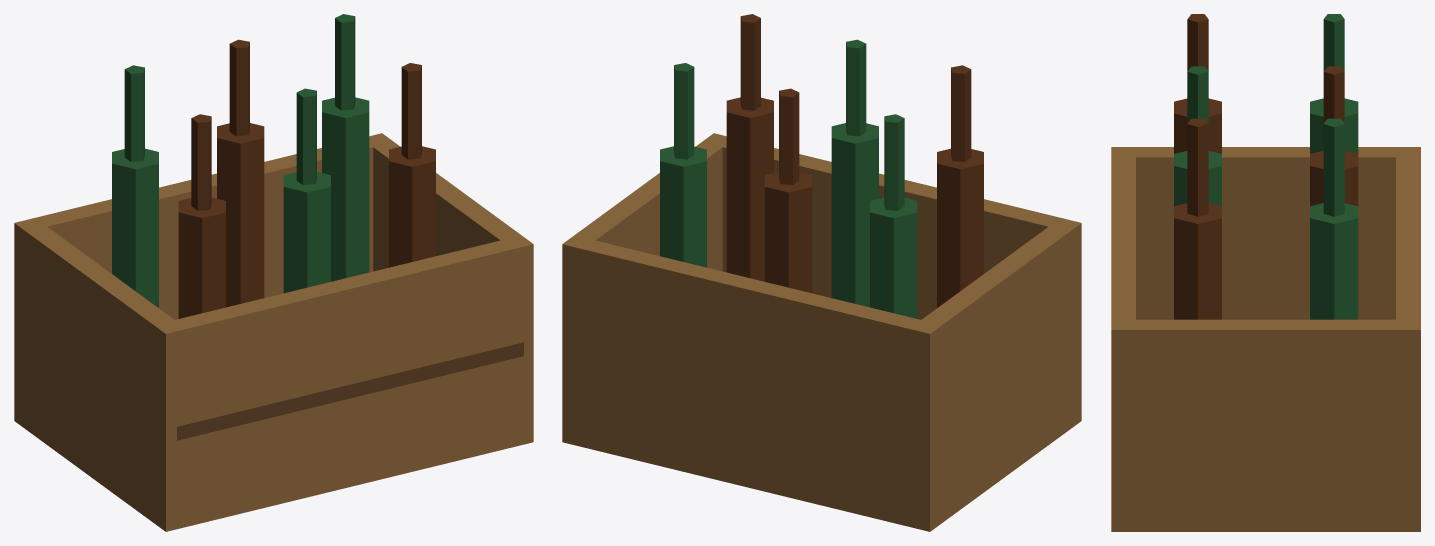
Rendered from epicerie_bouteilles.glb.
The picture shows the model from 3 angles, left to right: view 1: azimuth 30°, elevation 25°; view 2: azimuth 150°, elevation 25°; view 3: azimuth 270°, elevation 25°; orthographic projection. The views are drawn at different scales.
Parts seen in each view (by area): view 1: epicerie_bouteilles; view 2: epicerie_bouteilles; view 3: epicerie_bouteilles.
Part boxes in pixels (x1,y1,x2,y2): epicerie_bouteilles: (14,14,533,531); epicerie_bouteilles: (562,14,1081,531); epicerie_bouteilles: (1111,14,1420,531).
Size of the model in its own units: 0.7 by 0.66 by 0.502.
